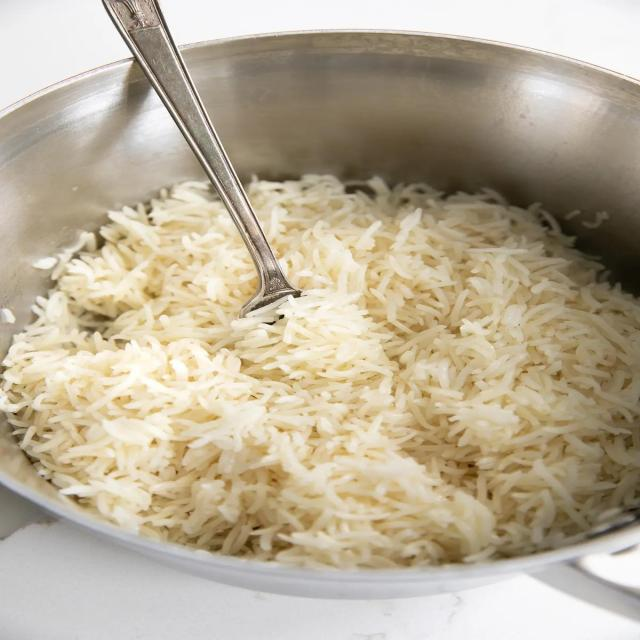rice: (11, 180, 640, 568)
